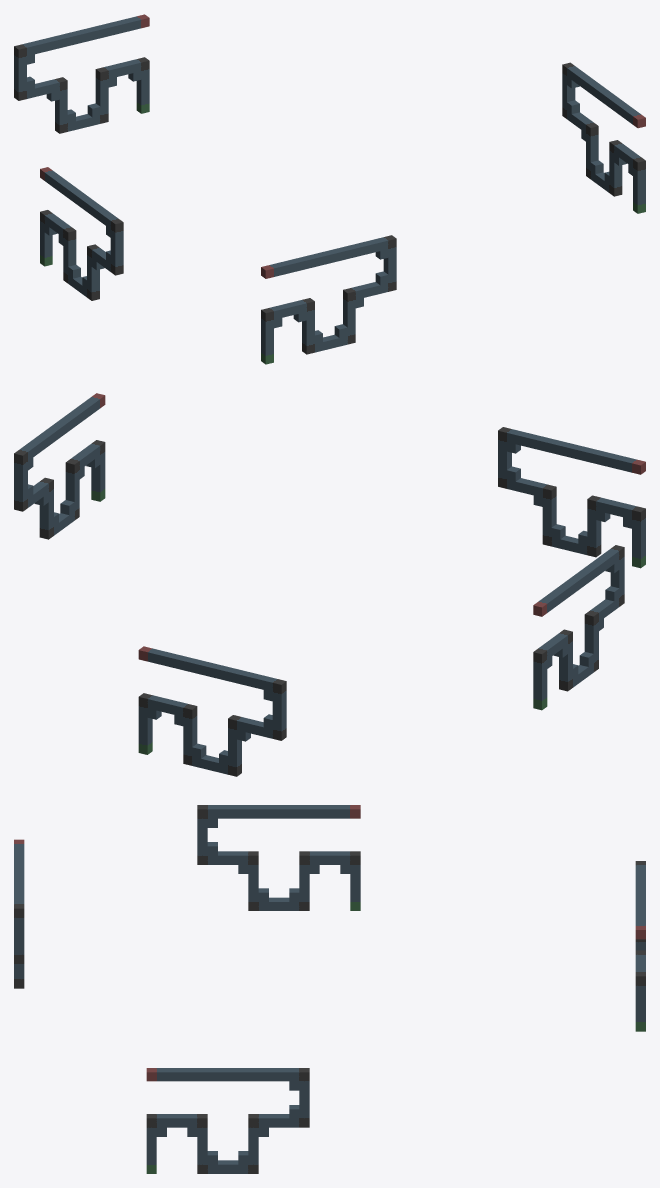
Rendered from pattern_10.glb.
3 renders of one model, top to bottom at view 1: azimuth 30°, elevation 25°; view 2: azimuth 150°, elevation 25°; view 3: azimuth 270°, elevation 25°, orthographic. The views are drawn at different scales.
Visible parts, largest first — view 1: crate_pattern_10; view 2: crate_pattern_10; view 3: crate_pattern_10.
Part boxes in pixels (<box>): crate_pattern_10: <box>14,14,645,364</box>; crate_pattern_10: <box>14,393,645,776</box>; crate_pattern_10: <box>14,805,645,1173</box>.
Bounding box in the file's own units: 6.2 × 1.1 × 6.2.
1 material, 1 textured.
